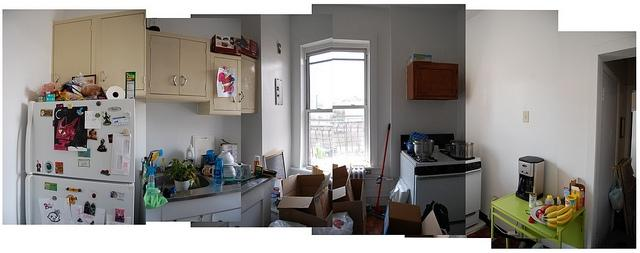banana: (543, 208, 573, 224), (544, 206, 570, 218), (544, 205, 566, 216), (544, 220, 556, 230)
